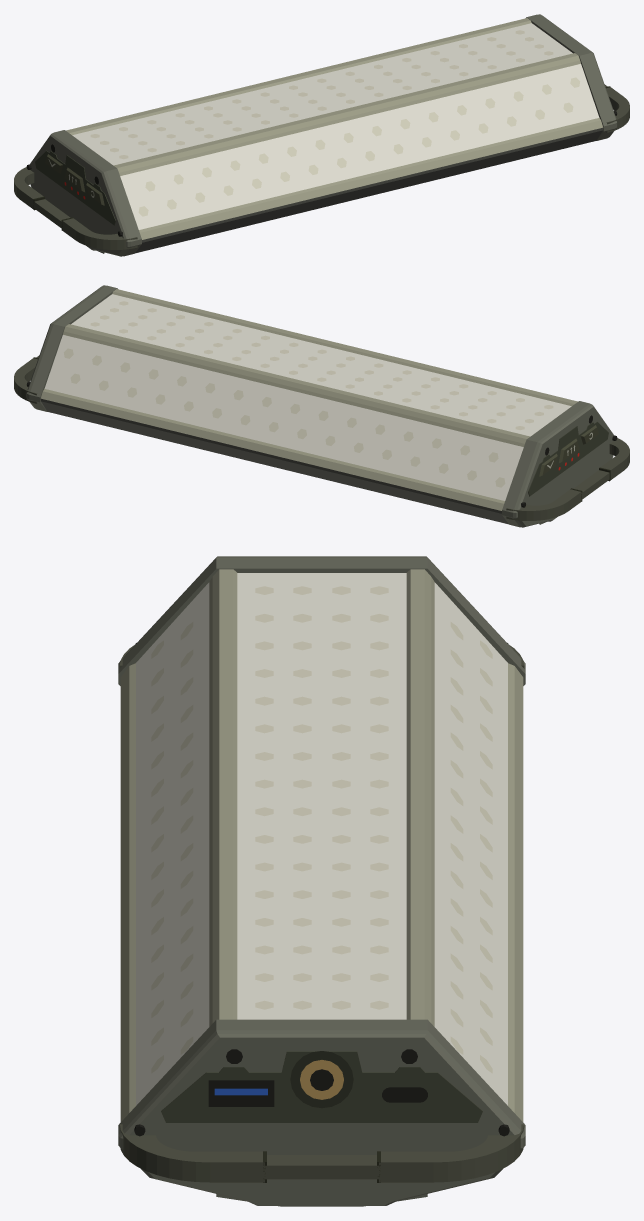
File: claymore-3face.glb
The picture shows the model from 3 angles, top to bottom: view 1: azimuth 30°, elevation 25°; view 2: azimuth 150°, elevation 25°; view 3: azimuth 270°, elevation 25°; orthographic projection. The views are drawn at different scales.
Visible parts, largest first — view 1: claymore-3face-diffuser, claymore-3face-rail, claymore-3face-cap, claymore-3face-band, claymore-3face-led, claymore-3face-handle, claymore-3face-panel, claymore-3face-button; view 2: claymore-3face-diffuser, claymore-3face-rail, claymore-3face-cap, claymore-3face-band, claymore-3face-led, claymore-3face-handle, claymore-3face-panel, claymore-3face-button; view 3: claymore-3face-diffuser, claymore-3face-rail, claymore-3face-cap, claymore-3face-led, claymore-3face-handle, claymore-3face-panel, claymore-3face-dark, claymore-3face-recess, claymore-3face-brass.
Boxes of the visible parts, x1,y1,x2,y2 form: claymore-3face-diffuser: [72, 23, 599, 229]; claymore-3face-rail: [66, 18, 602, 239]; claymore-3face-cap: [30, 14, 617, 256]; claymore-3face-band: [135, 127, 603, 253]; claymore-3face-led: [90, 30, 580, 216]; claymore-3face-handle: [14, 84, 629, 249]; claymore-3face-panel: [35, 150, 115, 225]; claymore-3face-button: [45, 154, 104, 205]; claymore-3face-diffuser: [44, 294, 571, 500]; claymore-3face-rail: [41, 289, 577, 510]; claymore-3face-cap: [26, 285, 613, 527]; claymore-3face-band: [40, 398, 508, 524]; claymore-3face-led: [63, 301, 553, 487]; claymore-3face-handle: [14, 355, 629, 520]; claymore-3face-panel: [528, 421, 608, 496]; claymore-3face-button: [539, 425, 598, 476]; claymore-3face-diffuser: [136, 573, 507, 1105]; claymore-3face-rail: [120, 569, 523, 1121]; claymore-3face-cap: [118, 556, 525, 1206]; claymore-3face-led: [151, 586, 492, 1073]; claymore-3face-handle: [119, 645, 524, 1182]; claymore-3face-panel: [161, 1051, 482, 1122]; claymore-3face-dark: [134, 643, 509, 1136]; claymore-3face-recess: [290, 1051, 353, 1108]; claymore-3face-brass: [300, 1060, 343, 1099].
Bounding box in the file's own units: 0.2516 × 0.0383 × 0.0809.
